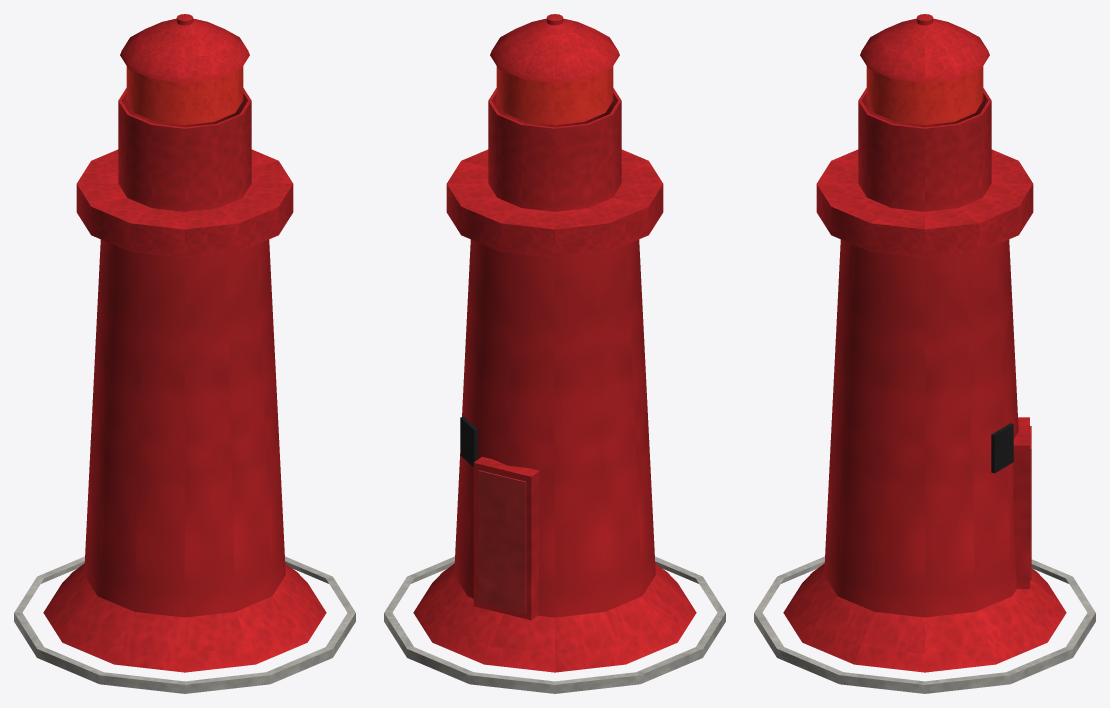
Rendered from SM_MoloItalia_Faro_LOD2.fbx.
The picture shows the model from 3 angles, left to right: view 1: azimuth 30°, elevation 25°; view 2: azimuth 150°, elevation 25°; view 3: azimuth 270°, elevation 25°; orthographic projection.
Visible parts, largest first — view 1: SM_MoloItalia_Faro_LOD2; view 2: SM_MoloItalia_Faro_LOD2; view 3: SM_MoloItalia_Faro_LOD2.
Part boxes in pixels (<box>): SM_MoloItalia_Faro_LOD2: <box>14,14,355,693</box>; SM_MoloItalia_Faro_LOD2: <box>384,14,725,693</box>; SM_MoloItalia_Faro_LOD2: <box>754,14,1095,693</box>.
Size of the model in its own units: 410 by 410 by 802.
2 materials, 2 textured.
